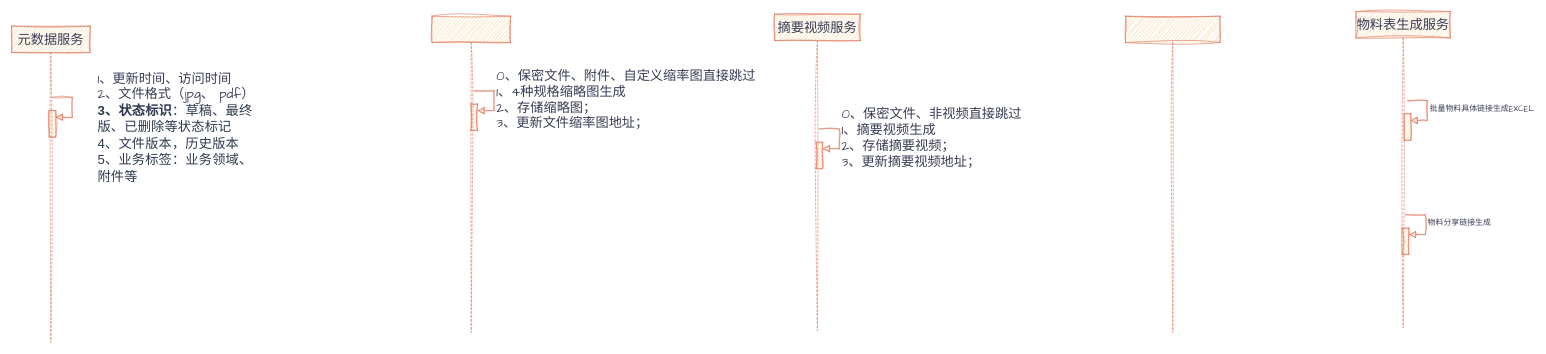
Some shapes in this 1546 by 354 pixel diagram are drawn without their labels. Here are the shapes that lost their labels. From the top down, the box of each, then its label:
(431, 16, 511, 332): 缩率图服务
(1125, 16, 1220, 332): PDF前N页提取
